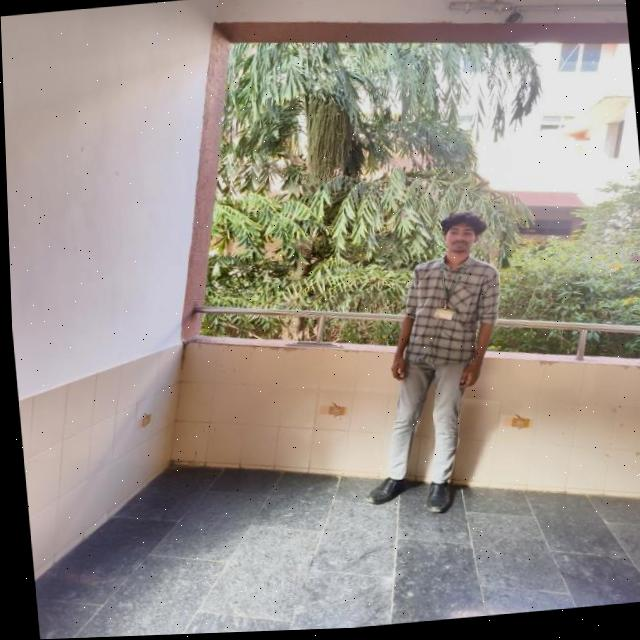id_card: (425, 272, 466, 329)
